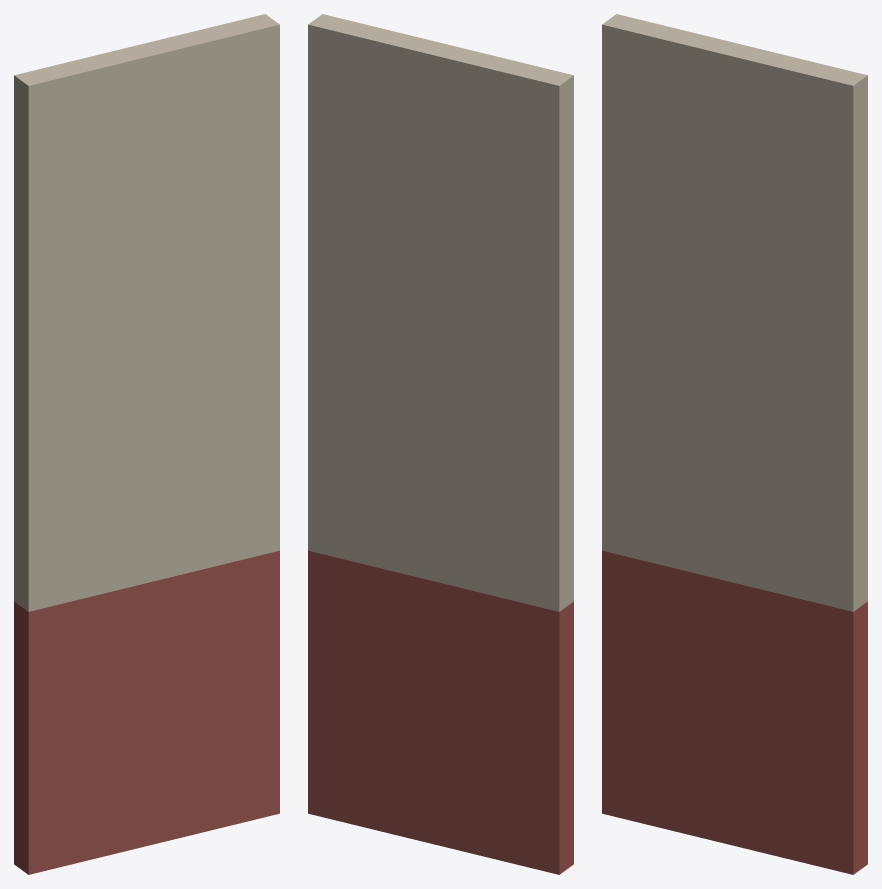
File: Mesh_Wall2Colors_D1.fbx
3 views of the same model, side by side, from view 1: azimuth 30°, elevation 25°; view 2: azimuth 150°, elevation 25°; view 3: azimuth 330°, elevation 25° (orthographic).
Parts seen in each view (by area): view 1: Mesh_Wall2Colors_D1; view 2: Mesh_Wall2Colors_D1; view 3: Mesh_Wall2Colors_D1.
Part boxes in pixels (bbox=[...]): Mesh_Wall2Colors_D1: bbox=[14, 14, 279, 874]; Mesh_Wall2Colors_D1: bbox=[308, 14, 573, 874]; Mesh_Wall2Colors_D1: bbox=[602, 14, 867, 874].
Size of the model in its own units: 1 by 3 by 0.1.
